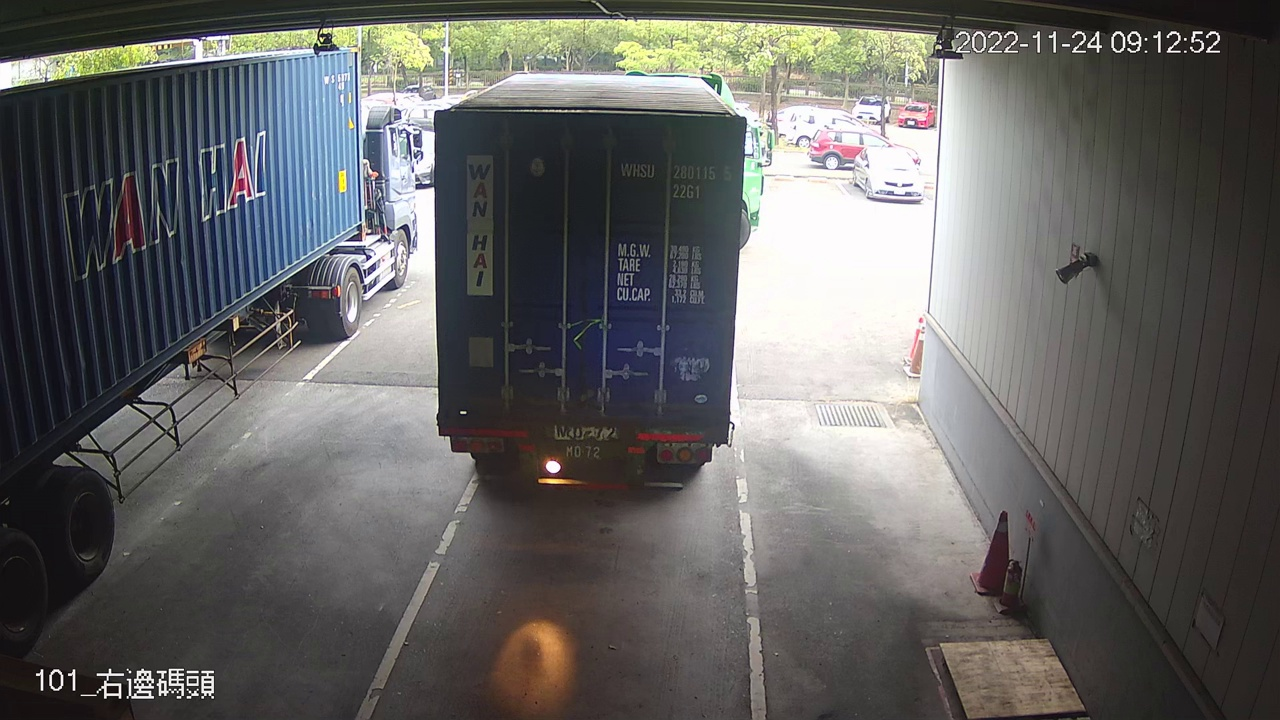container: (617, 158, 737, 204)
